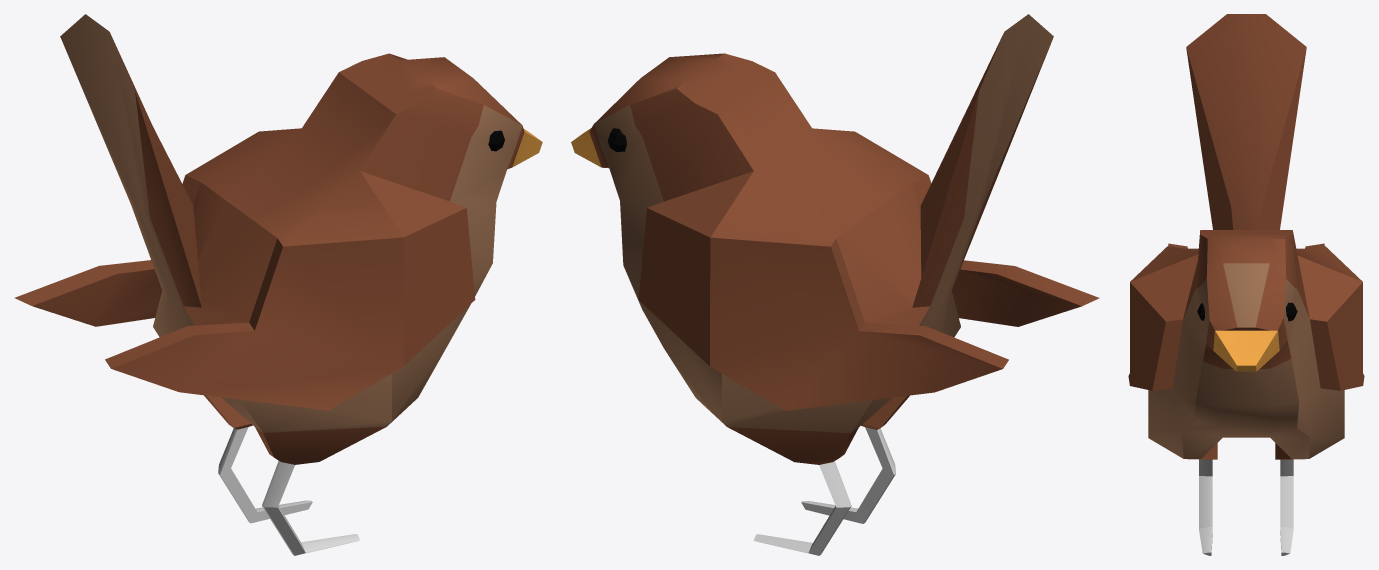
The model's file is JJack.fbx.
3 views of the same model, side by side, from view 1: azimuth 30°, elevation 25°; view 2: azimuth 150°, elevation 25°; view 3: azimuth 270°, elevation 25° (orthographic). The views are drawn at different scales.
Visible parts, largest first — view 1: Cube; view 2: Cube; view 3: Cube.
Boxes of the visible parts, bbox=[...] form: Cube: bbox=[14, 14, 542, 555]; Cube: bbox=[571, 14, 1099, 555]; Cube: bbox=[1128, 14, 1364, 555].
Bounding box in the file's own units: 250 × 281 × 134.
